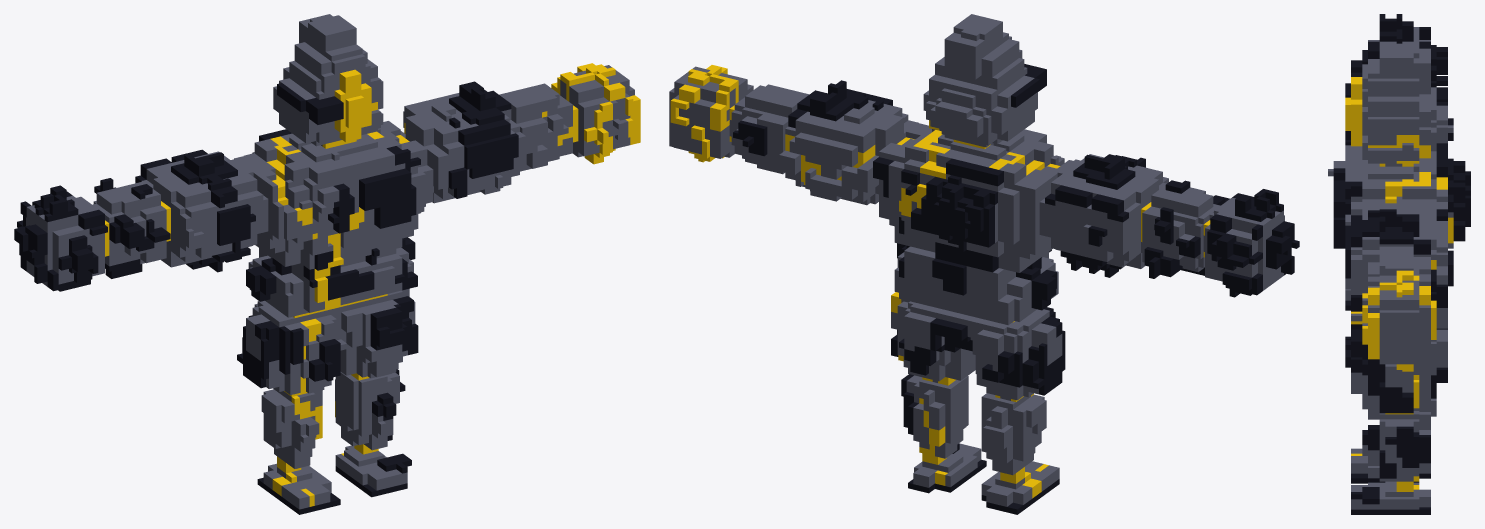
File: monster_gold_golem.dae
The picture shows the model from 3 angles, left to right: view 1: azimuth 30°, elevation 25°; view 2: azimuth 150°, elevation 25°; view 3: azimuth 270°, elevation 25°; orthographic projection. The views are drawn at different scales.
Parts seen in each view (by area): view 1: monster_gold_golem; view 2: monster_gold_golem; view 3: monster_gold_golem.
Part boxes in pixels (box(x1,y1,x2,y2)): monster_gold_golem: box(14, 14, 640, 514); monster_gold_golem: box(669, 14, 1299, 514); monster_gold_golem: box(1328, 14, 1470, 514).
Size of the model in its own units: 11.7 by 2.5 by 8.5.
1 material, 1 textured.
